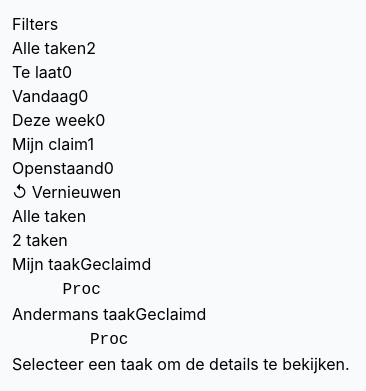
Test: TakenInbox › the "Mijn claim" filter only shows tasks assigned to the current user
Expected: the text "Mijn taak" is shown, [12,254,80,274]
Click the button "Mijn claim1" at (53, 144), box [12,132,94,156]
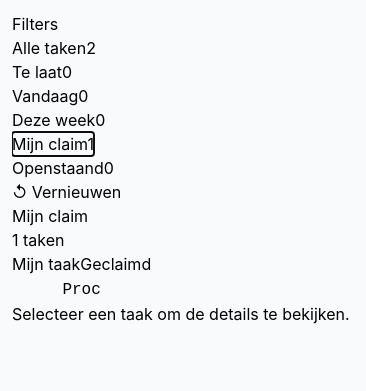
Expected: the text "Mijn taak" is shown, [12,254,80,274]
Now the button "Andermans taak" is gone
